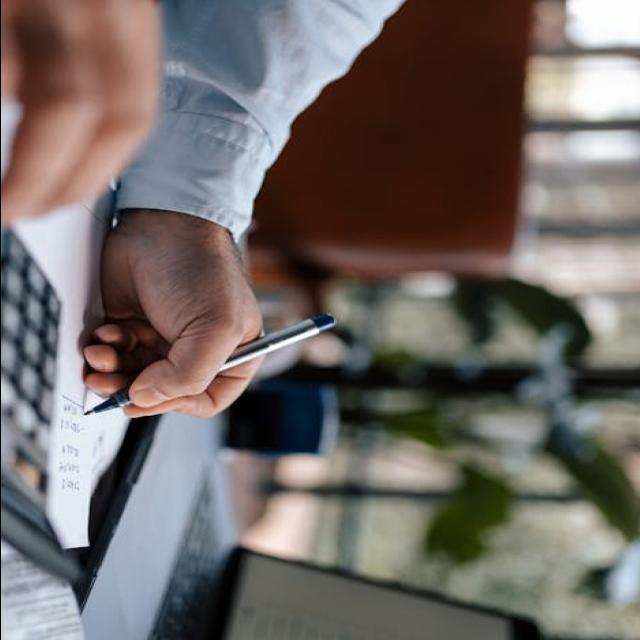pen: (50, 306, 356, 442)
